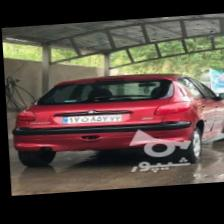plate: (58, 114, 122, 126)
